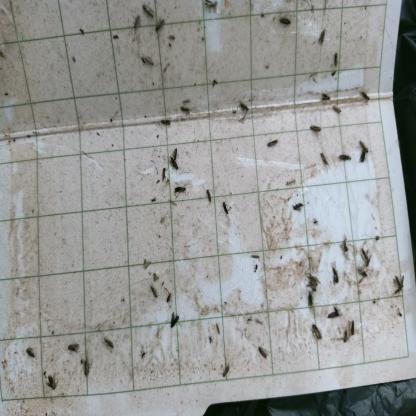prays_oleae: (237, 94, 255, 125), (393, 261, 405, 303), (171, 180, 191, 204), (41, 369, 57, 398), (137, 45, 156, 69), (260, 131, 279, 154), (308, 323, 323, 349), (76, 361, 92, 383), (142, 1, 158, 22), (145, 280, 159, 304), (328, 266, 343, 288), (255, 343, 270, 365), (61, 339, 80, 356), (308, 117, 324, 137), (336, 147, 351, 168), (100, 332, 112, 358), (128, 12, 142, 34), (290, 198, 304, 220), (305, 274, 320, 294), (153, 19, 170, 36), (318, 148, 329, 173), (157, 113, 174, 129), (217, 366, 234, 382), (275, 15, 293, 30), (339, 238, 351, 260), (316, 26, 326, 52), (167, 310, 180, 330), (302, 293, 316, 311), (324, 308, 342, 322), (221, 197, 233, 217), (23, 344, 37, 361), (360, 88, 372, 107), (166, 156, 180, 172), (317, 89, 331, 105), (354, 271, 372, 282), (204, 0, 218, 14), (356, 149, 368, 165), (180, 103, 192, 119), (170, 141, 180, 160), (338, 327, 348, 346), (349, 319, 358, 338), (202, 189, 212, 206), (358, 136, 368, 153), (332, 49, 340, 70), (329, 104, 342, 116), (361, 245, 368, 260), (366, 254, 374, 264)
